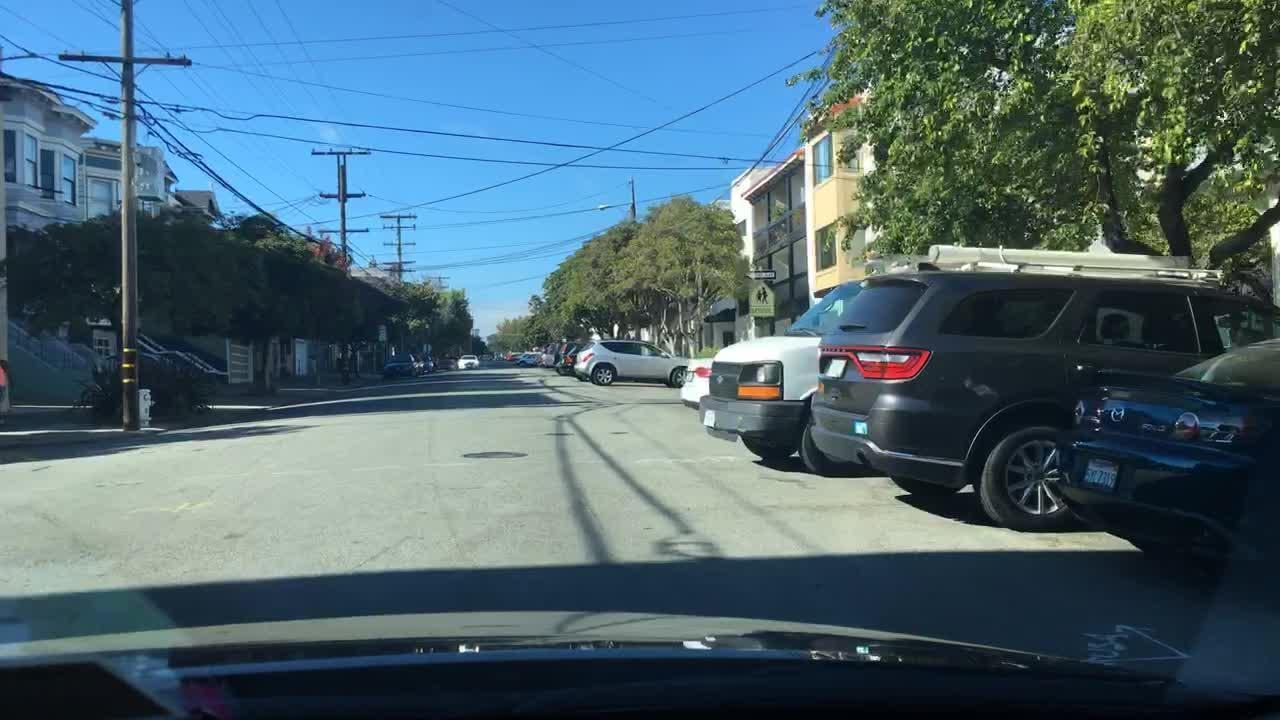Mazda: (1105, 404, 1128, 426)
